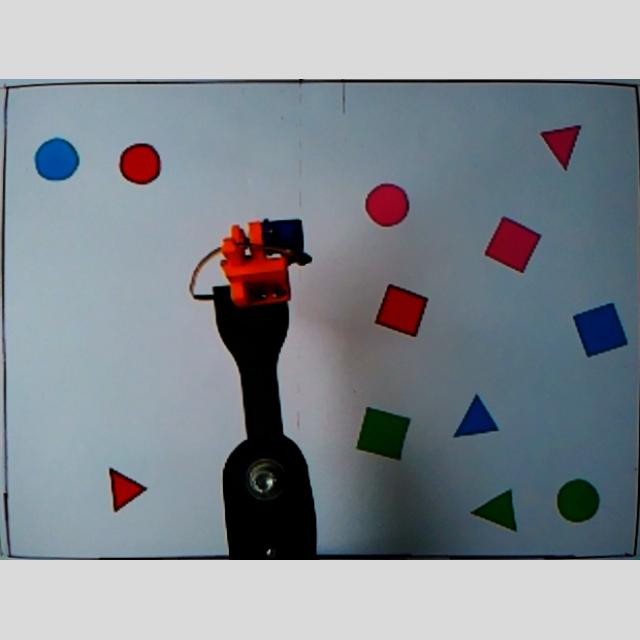blueCircle: (32, 136, 80, 184)
blueSquare: (570, 302, 630, 361)
blueTriangle: (451, 394, 499, 441)
greenCircle: (556, 479, 602, 525)
greenSquare: (354, 406, 412, 462)
greenTriangle: (468, 489, 520, 536)
pinkCircle: (364, 184, 410, 230)
pinkSquare: (484, 216, 544, 276)
pinkTriangle: (539, 124, 583, 172)
redCircle: (116, 141, 166, 187)
redSquare: (372, 284, 430, 340)
redTriangle: (102, 467, 150, 519)
